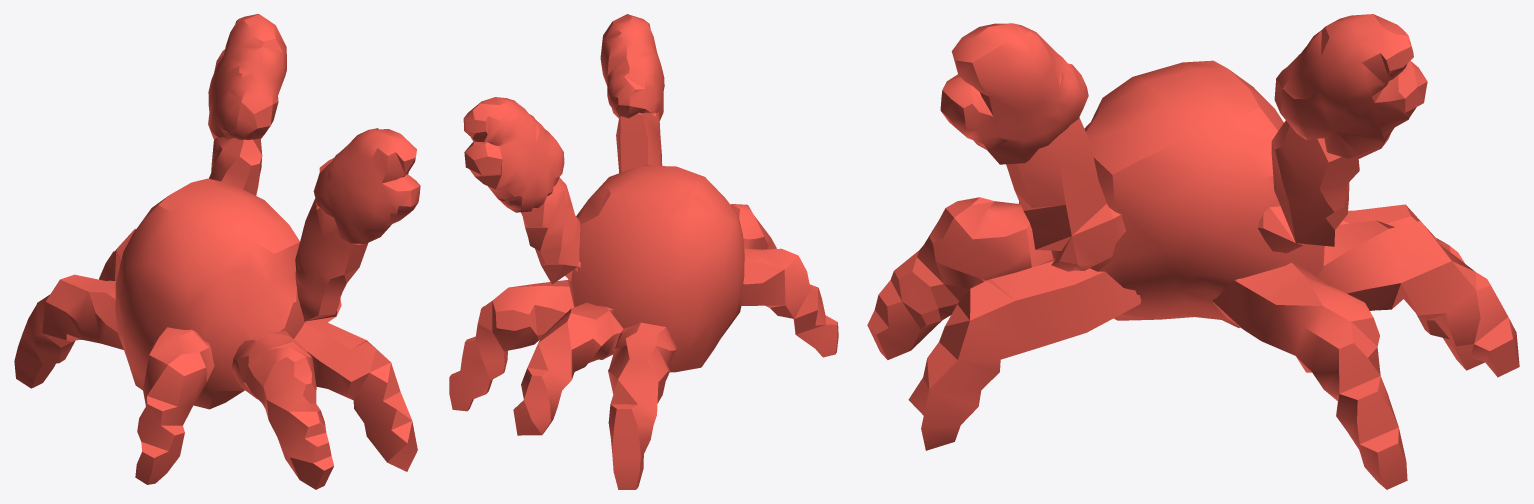
File: crab-outline.fbx
3 renders of one model, left to right at view 1: azimuth 30°, elevation 25°; view 2: azimuth 150°, elevation 25°; view 3: azimuth 270°, elevation 25°, orthographic. The views are drawn at different scales.
Parts seen in each view (by area): view 1: outline; view 2: outline; view 3: outline.
Part boxes in pixels (x1,y1,x2,y2): outline: (14,14,420,489); outline: (449,14,838,489); outline: (867,14,1519,489).
Bounding box in the file's own units: 120 × 139 × 176.
